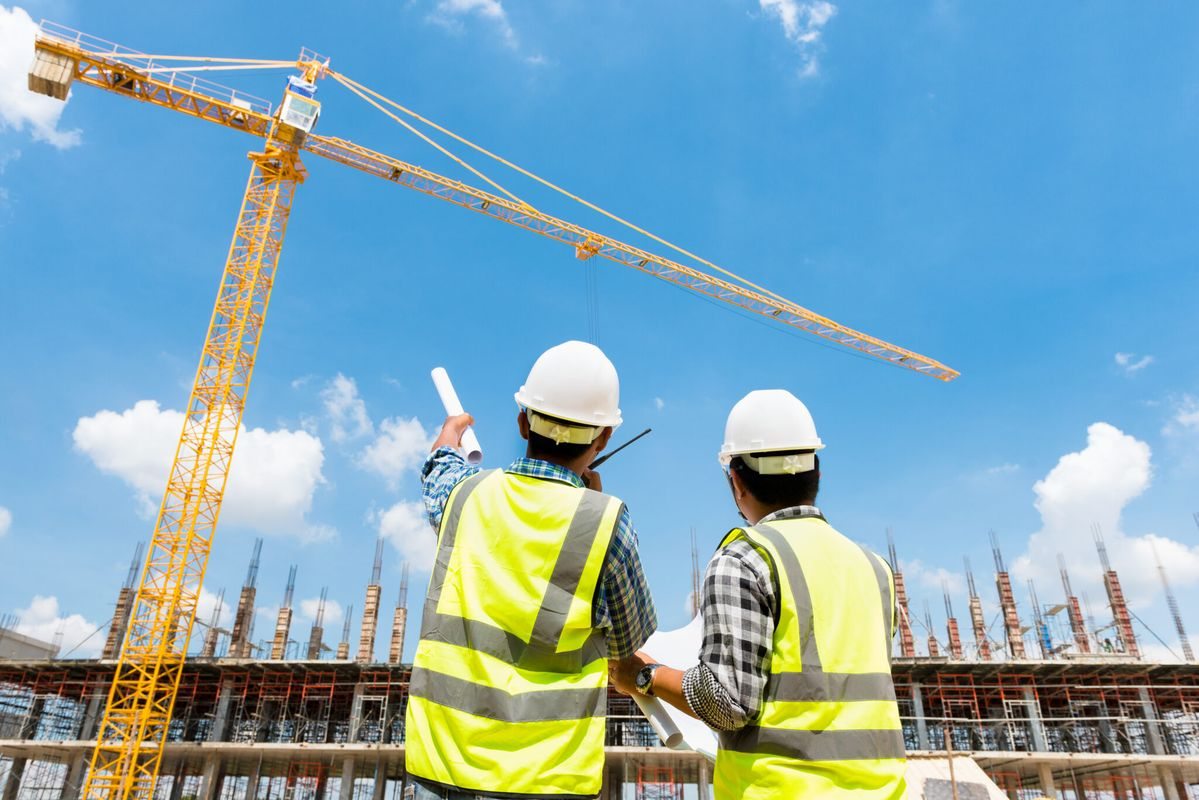crane: (11, 16, 979, 790)
hardhat: (499, 333, 627, 429), (722, 385, 835, 451)
person: (659, 361, 952, 792), (387, 317, 634, 789)
safety_vest: (411, 472, 614, 784), (707, 510, 924, 786)
